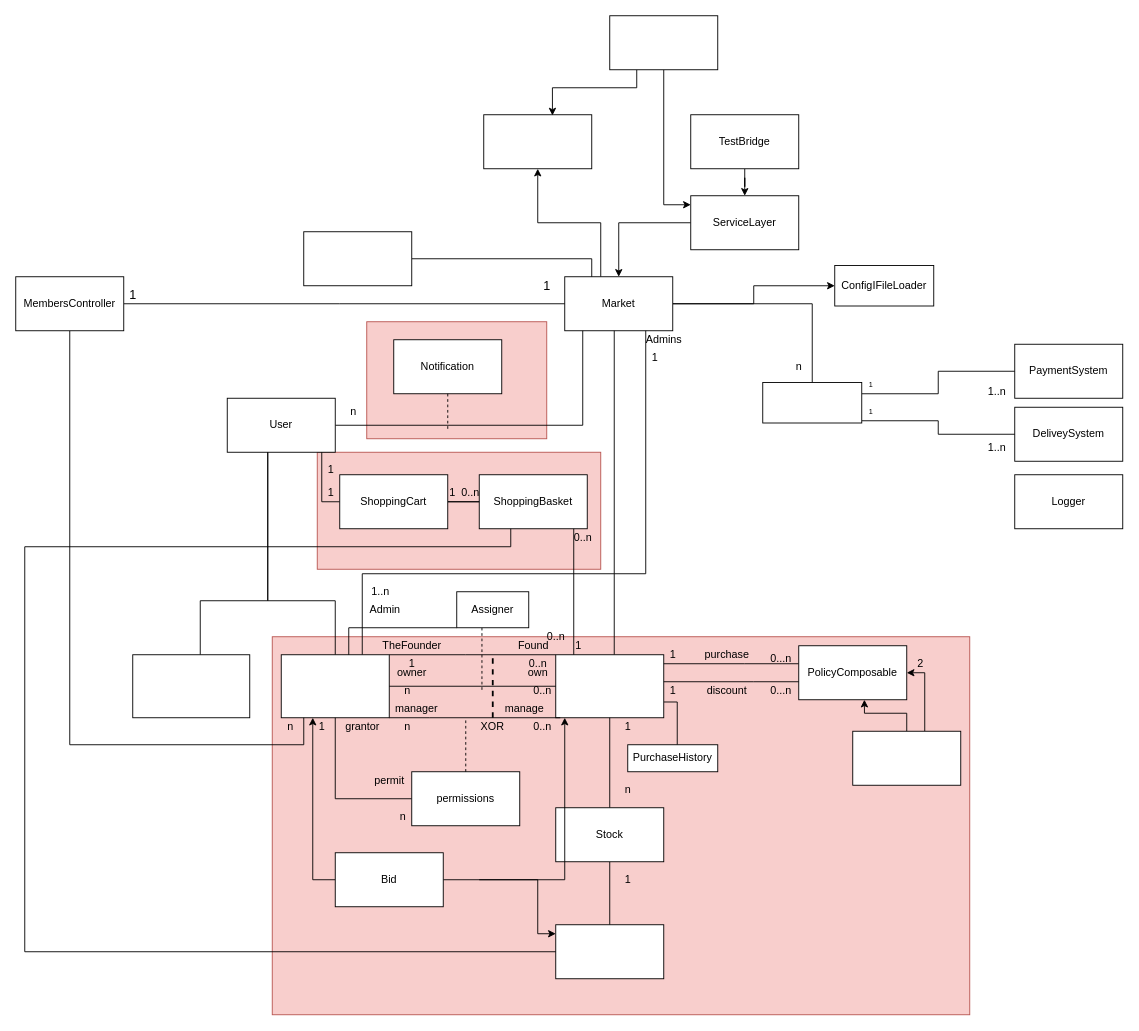
This 1139x1031 diagram has some shape labels left out. The shapes that lost their labels are listed below. From the top down, each one's box as (x1, y1, x2, y2) in pixels, then its label:
(609, 15, 718, 70): PresentationLayer
(483, 114, 592, 169): notificationPlugin
(303, 231, 412, 286): Security
(762, 382, 862, 423): ExternalSystems
(132, 654, 250, 718): Guest
(280, 654, 389, 718): Member
(555, 654, 664, 718): Shop
(852, 730, 961, 785): PolicyComposer
(555, 924, 664, 979): StockItem
